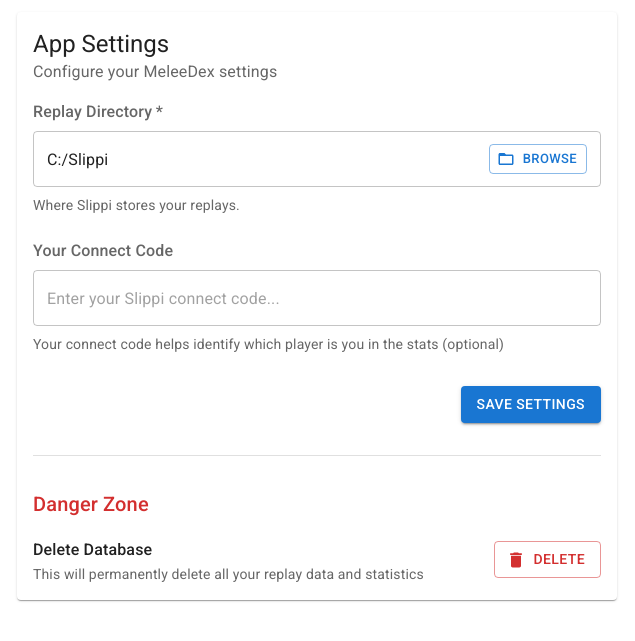
Scenario: SettingsPage — the connect code has to look like one › clears the complaint once the code is being corrected
Type "nope" into the field with placeholder "Enter your Slippi connect code..." at (317, 298), box [33,270,601,326]
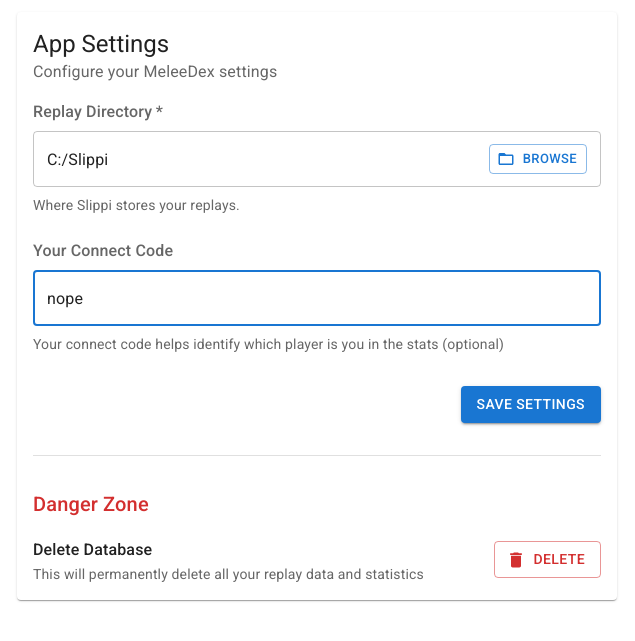
Press Tab
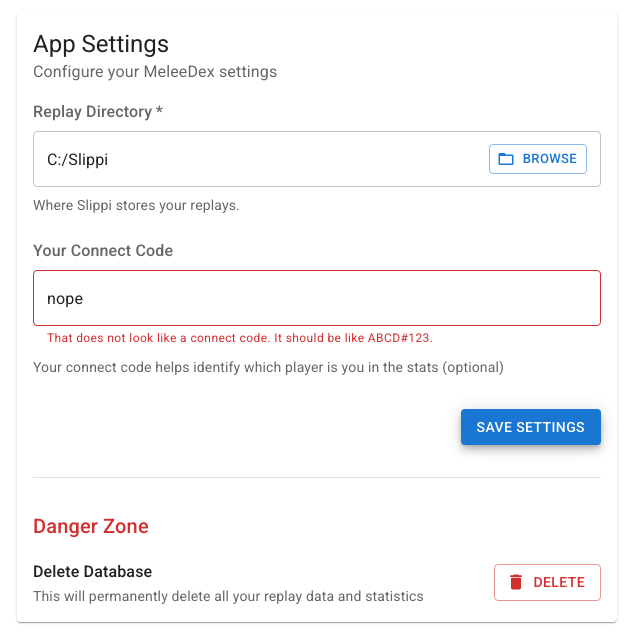
Type "1" into the 2nd field with placeholder "Enter your Slippi connect code..." at (317, 298), box [33,270,601,326]
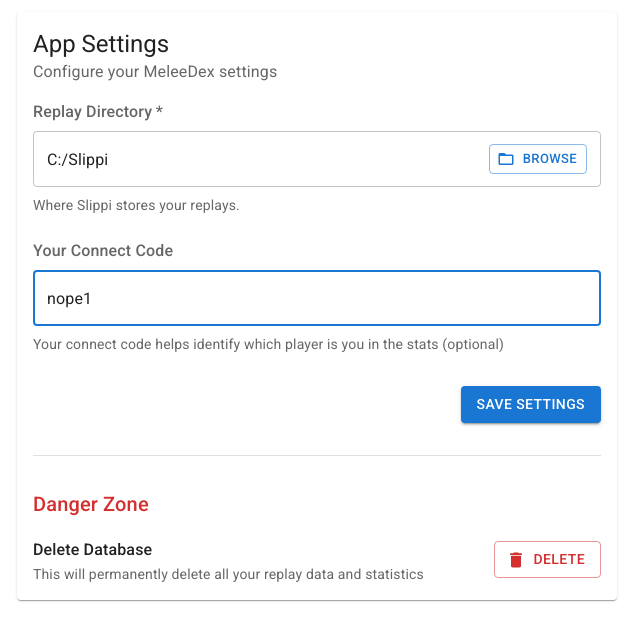
Result: the text "That does not look like a connect code" is gone
